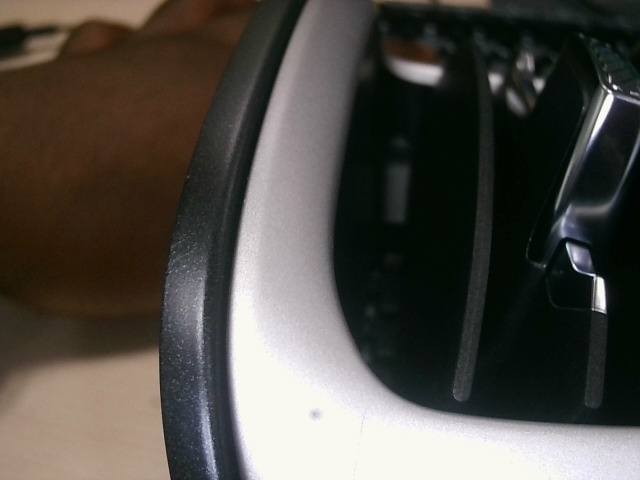NG: (356, 405, 380, 480), (170, 237, 200, 292)
